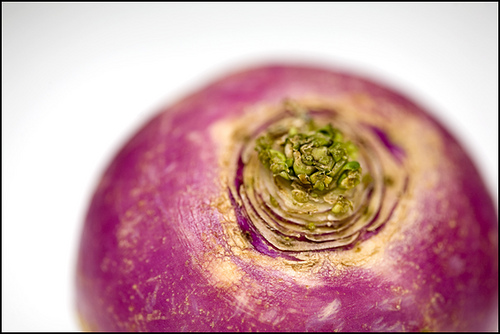turnip: (73, 59, 498, 331)
